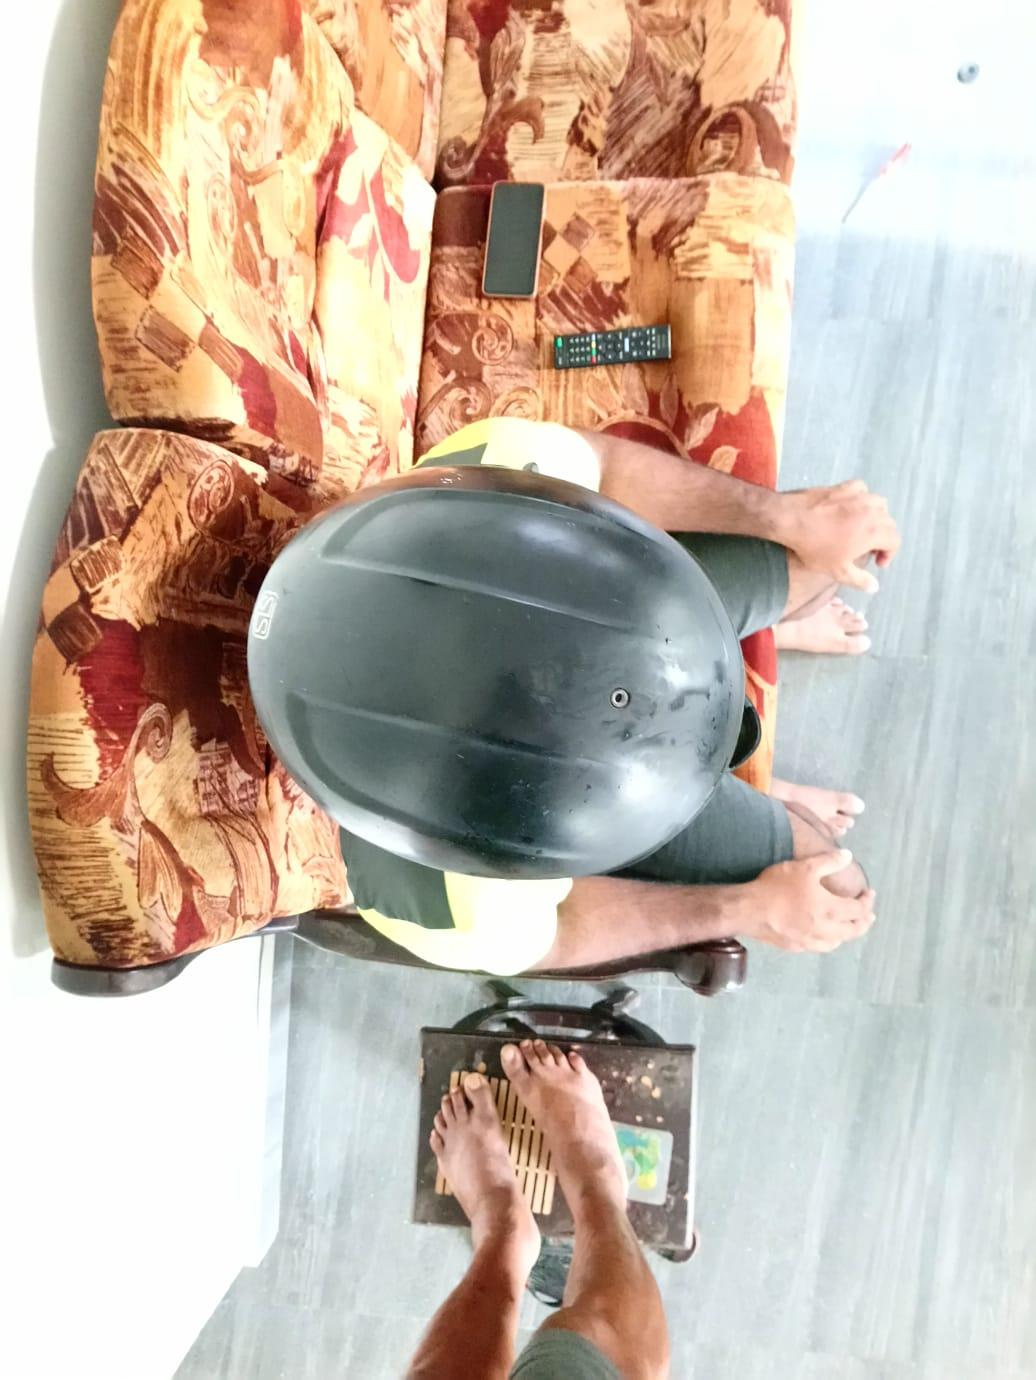helmet: (246, 463, 747, 882)
